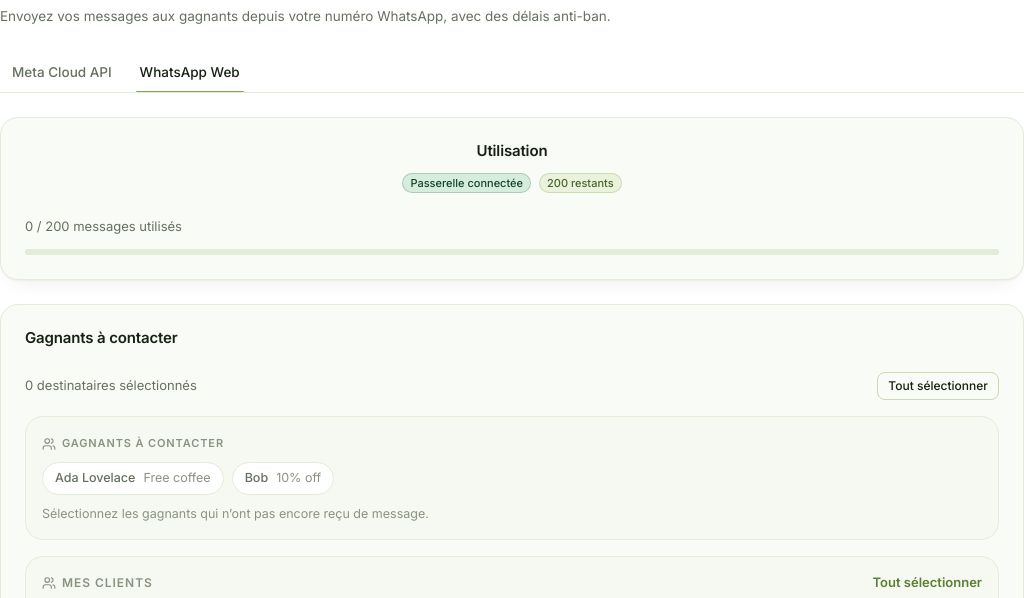
Test: WhatsApp Web broadcast panel › still blocks sending once the selection exceeds the per-broadcast batch limit
The width and height of the screenshot is (1024, 598).
Click the button "Tout sélectionner" in the row of "Mes clients": (927, 583) top-left (872, 573), bottom-right (982, 593)
(page scrolled)
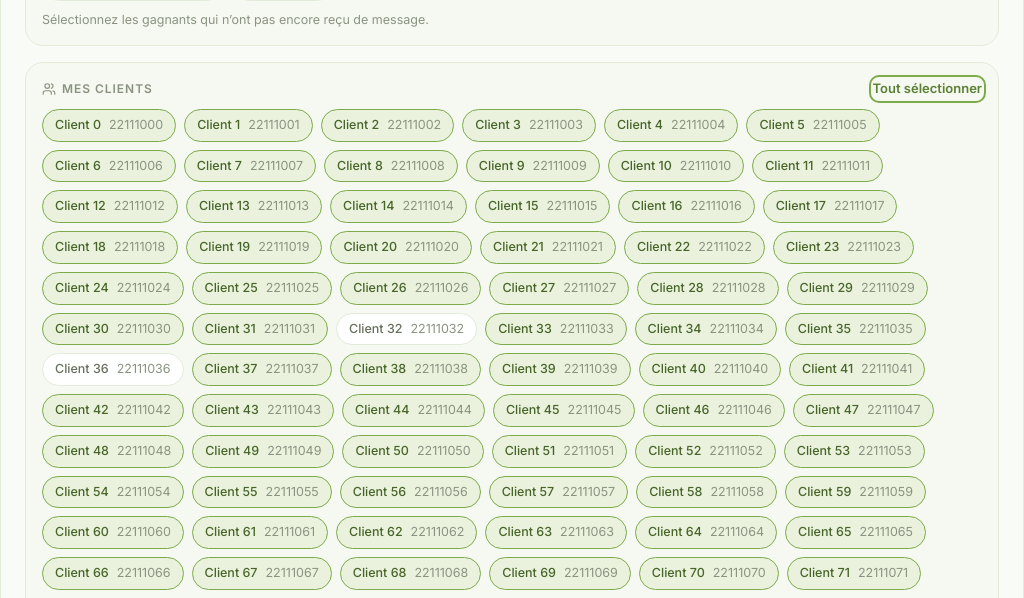
Click the button "Client 32 22111032": (407, 329) top-left (336, 313), bottom-right (477, 346)
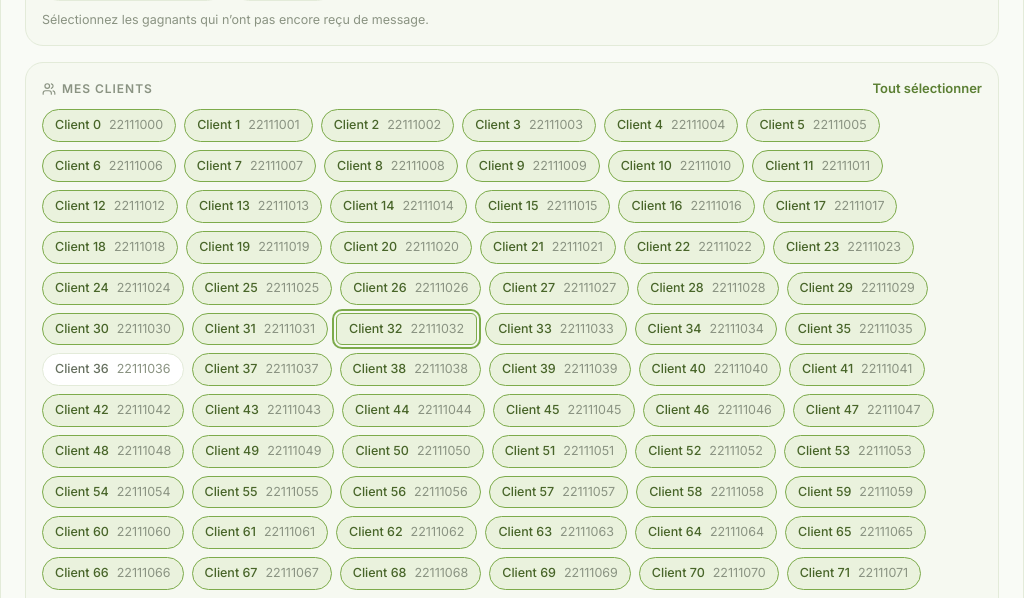
Click the button "Client 36 22111036": (113, 370) top-left (42, 353), bottom-right (184, 386)
(page scrolled)
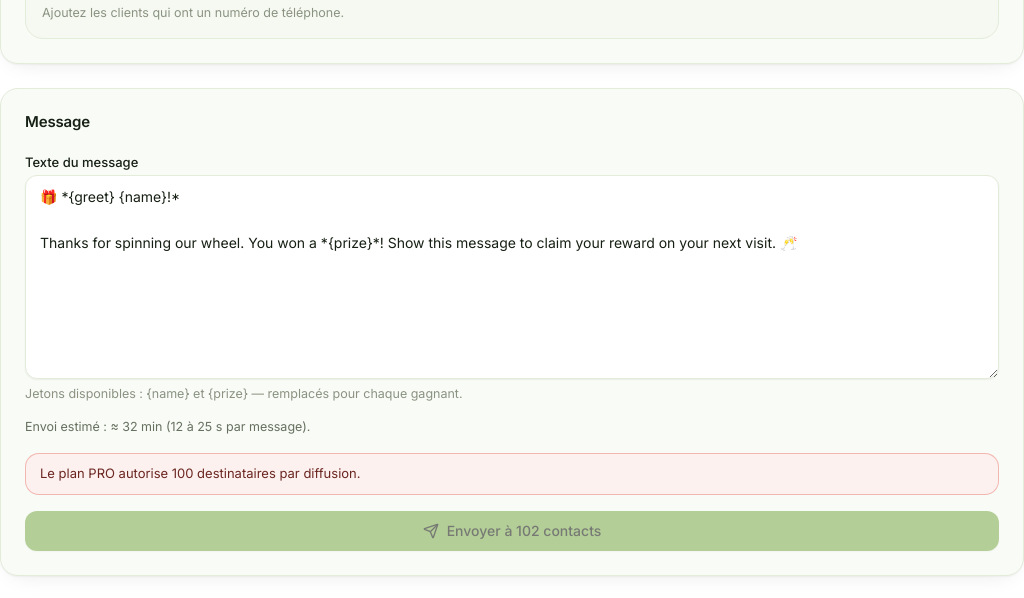
Check: the text "Le plan PRO autorise 100 destinataires par diffusion." is shown, box top-left (25, 453), bottom-right (999, 495)
Check: the button "Envoyer à 102 contacts" is shown, box top-left (25, 511), bottom-right (999, 551)
